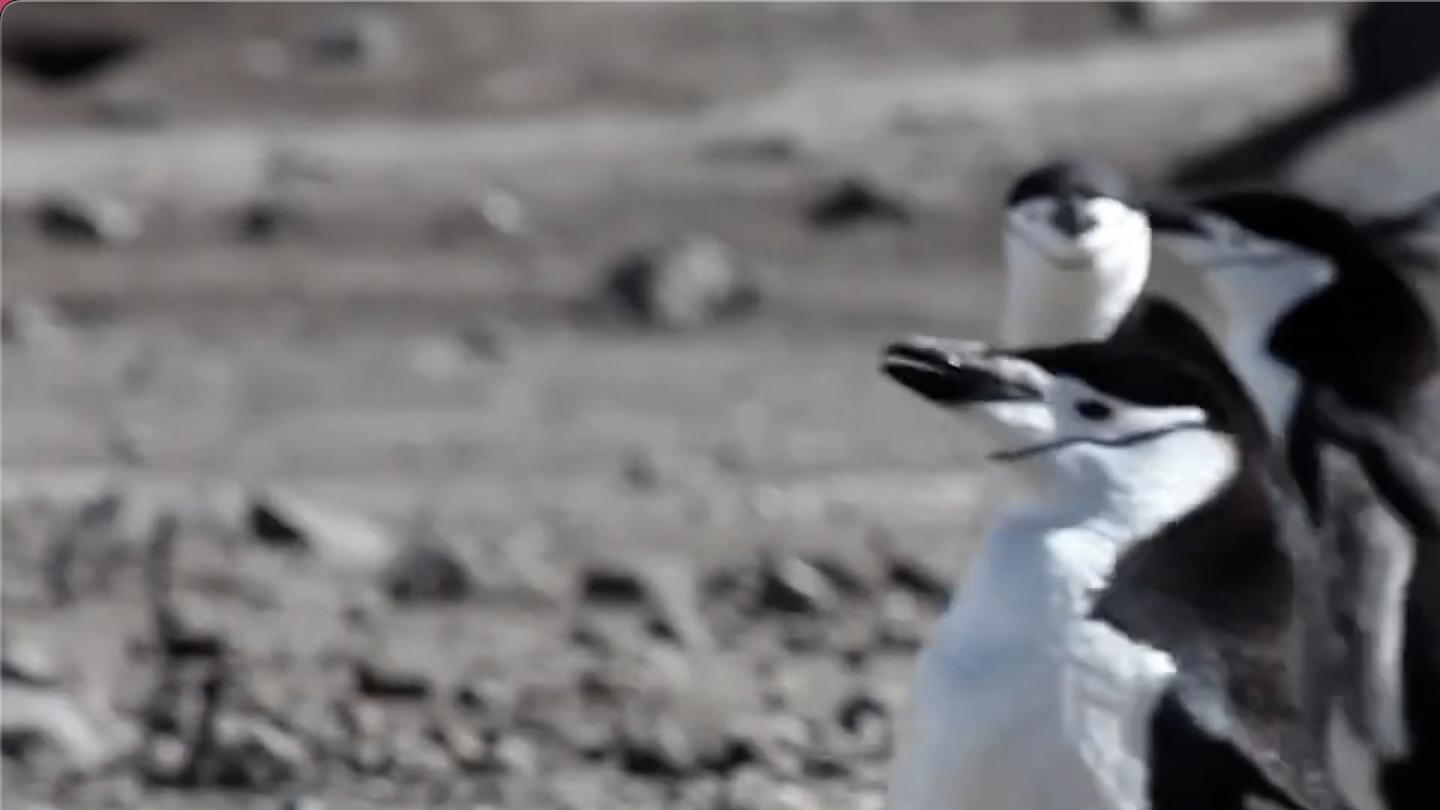Chinstrap Penguin: (866, 295, 1440, 810), (1126, 176, 1440, 810), (963, 147, 1153, 373)
